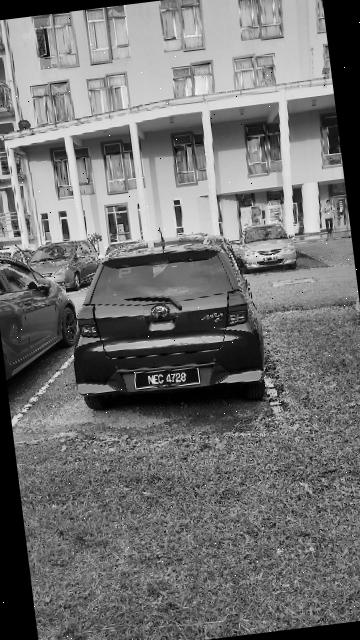License_Plate: (131, 363, 205, 396)
car: (59, 216, 277, 421), (1, 237, 87, 388), (31, 231, 106, 294), (236, 216, 303, 277)
